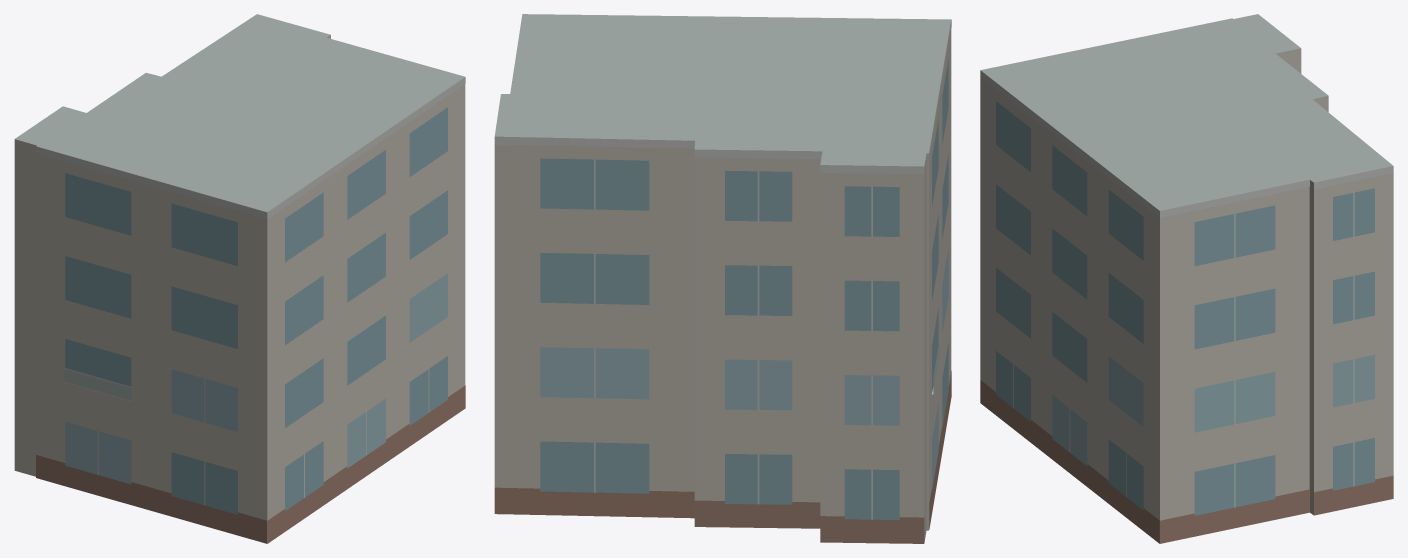
The model's file is survey-upis-32837584.glb.
3 renders of one model, left to right at view 1: azimuth 30°, elevation 25°; view 2: azimuth 150°, elevation 25°; view 3: azimuth 270°, elevation 25°, orthographic. The views are drawn at different scales.
Visible parts, largest first — view 1: survey-upis-32837584.tmp; view 2: survey-upis-32837584.tmp; view 3: survey-upis-32837584.tmp.
Boxes of the visible parts, x1,y1,x2,y2 form: survey-upis-32837584.tmp: [14, 14, 465, 543]; survey-upis-32837584.tmp: [494, 14, 951, 543]; survey-upis-32837584.tmp: [980, 14, 1393, 543].
Size of the model in its own units: 14.88 by 11.72 by 13.19.
